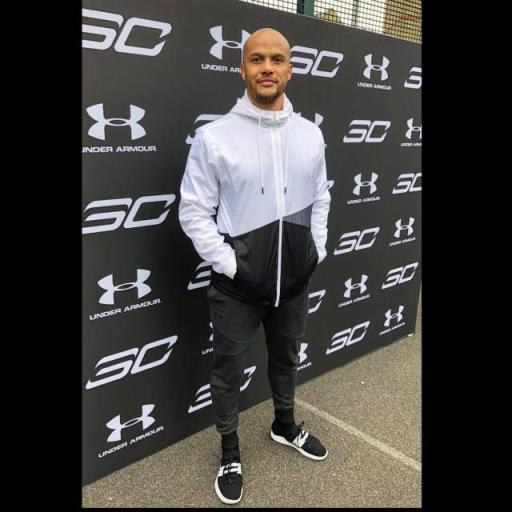Under Armour: (346, 168, 383, 206)
